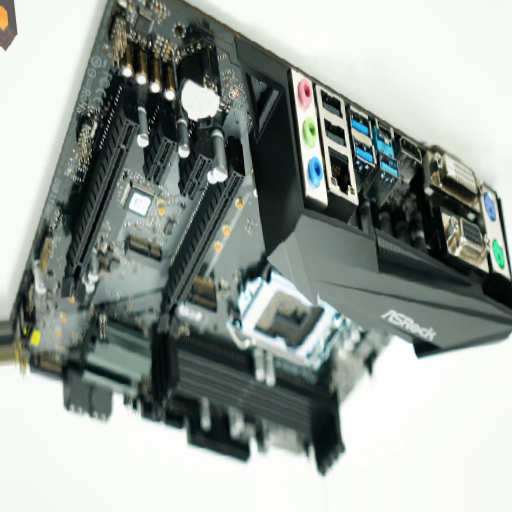CPU: (230, 268, 339, 367)
GPU: (162, 162, 246, 310), (71, 105, 139, 283)
MOTHERBOARD: (2, 1, 512, 472)
RAM: (151, 335, 346, 479)
SSD: (122, 237, 166, 268), (187, 282, 220, 310)
